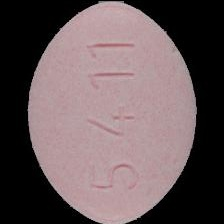55154-7566: (0, 0, 224, 224)
